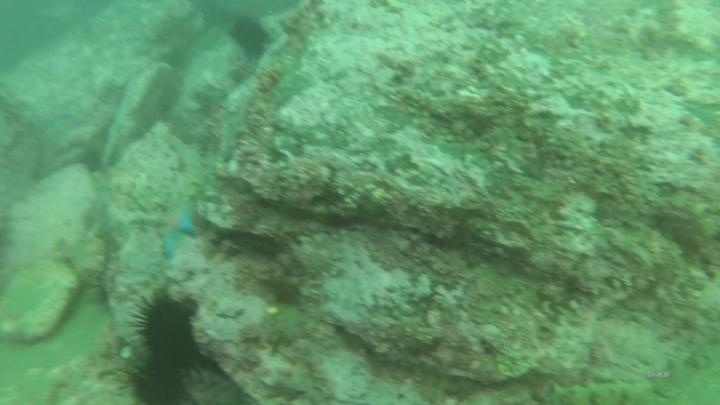echinus: (128, 287, 206, 372), (119, 352, 196, 404), (227, 13, 272, 58)
holothurian: (539, 372, 664, 405)
starfish: (155, 196, 203, 263), (30, 95, 78, 132)
